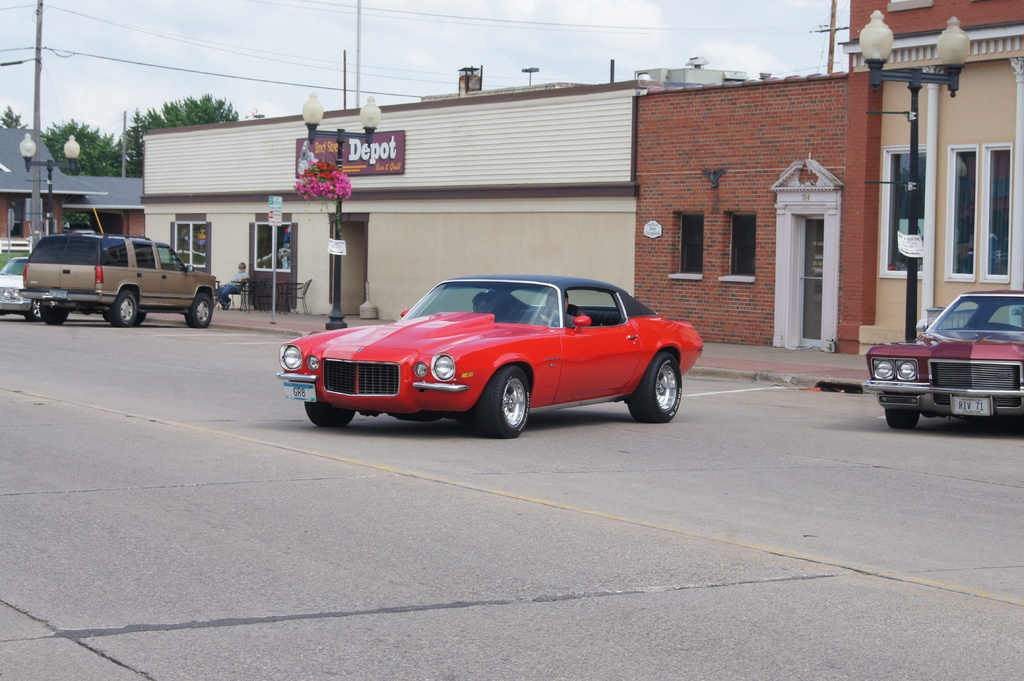Car: (277, 270, 703, 438), (860, 291, 1023, 428), (22, 227, 220, 328), (0, 250, 42, 323)
